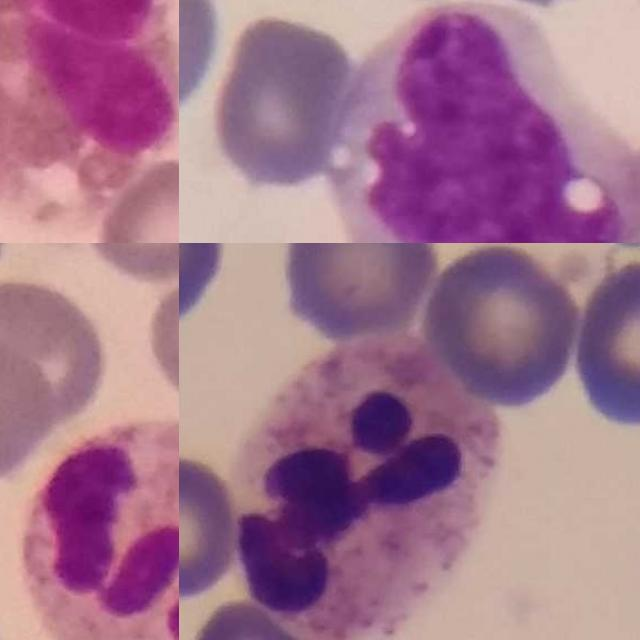Eosinophil: (0, 0, 179, 205)
Monocyte: (334, 5, 640, 243)
Neutrophil: (238, 333, 498, 640), (25, 417, 179, 640)
